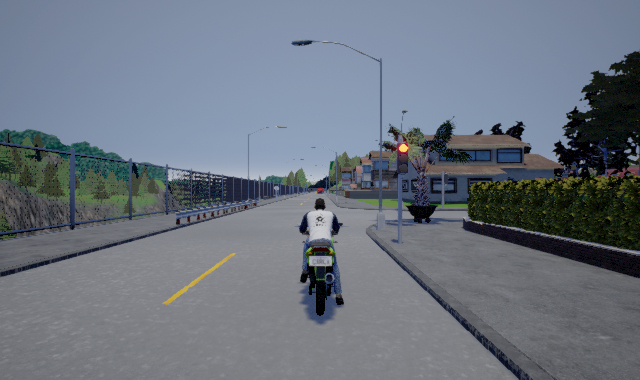motobike: (295, 197, 345, 317)
traffic_light: (397, 142, 410, 174)
